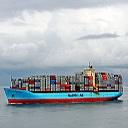Ships: (3, 64, 125, 108)
